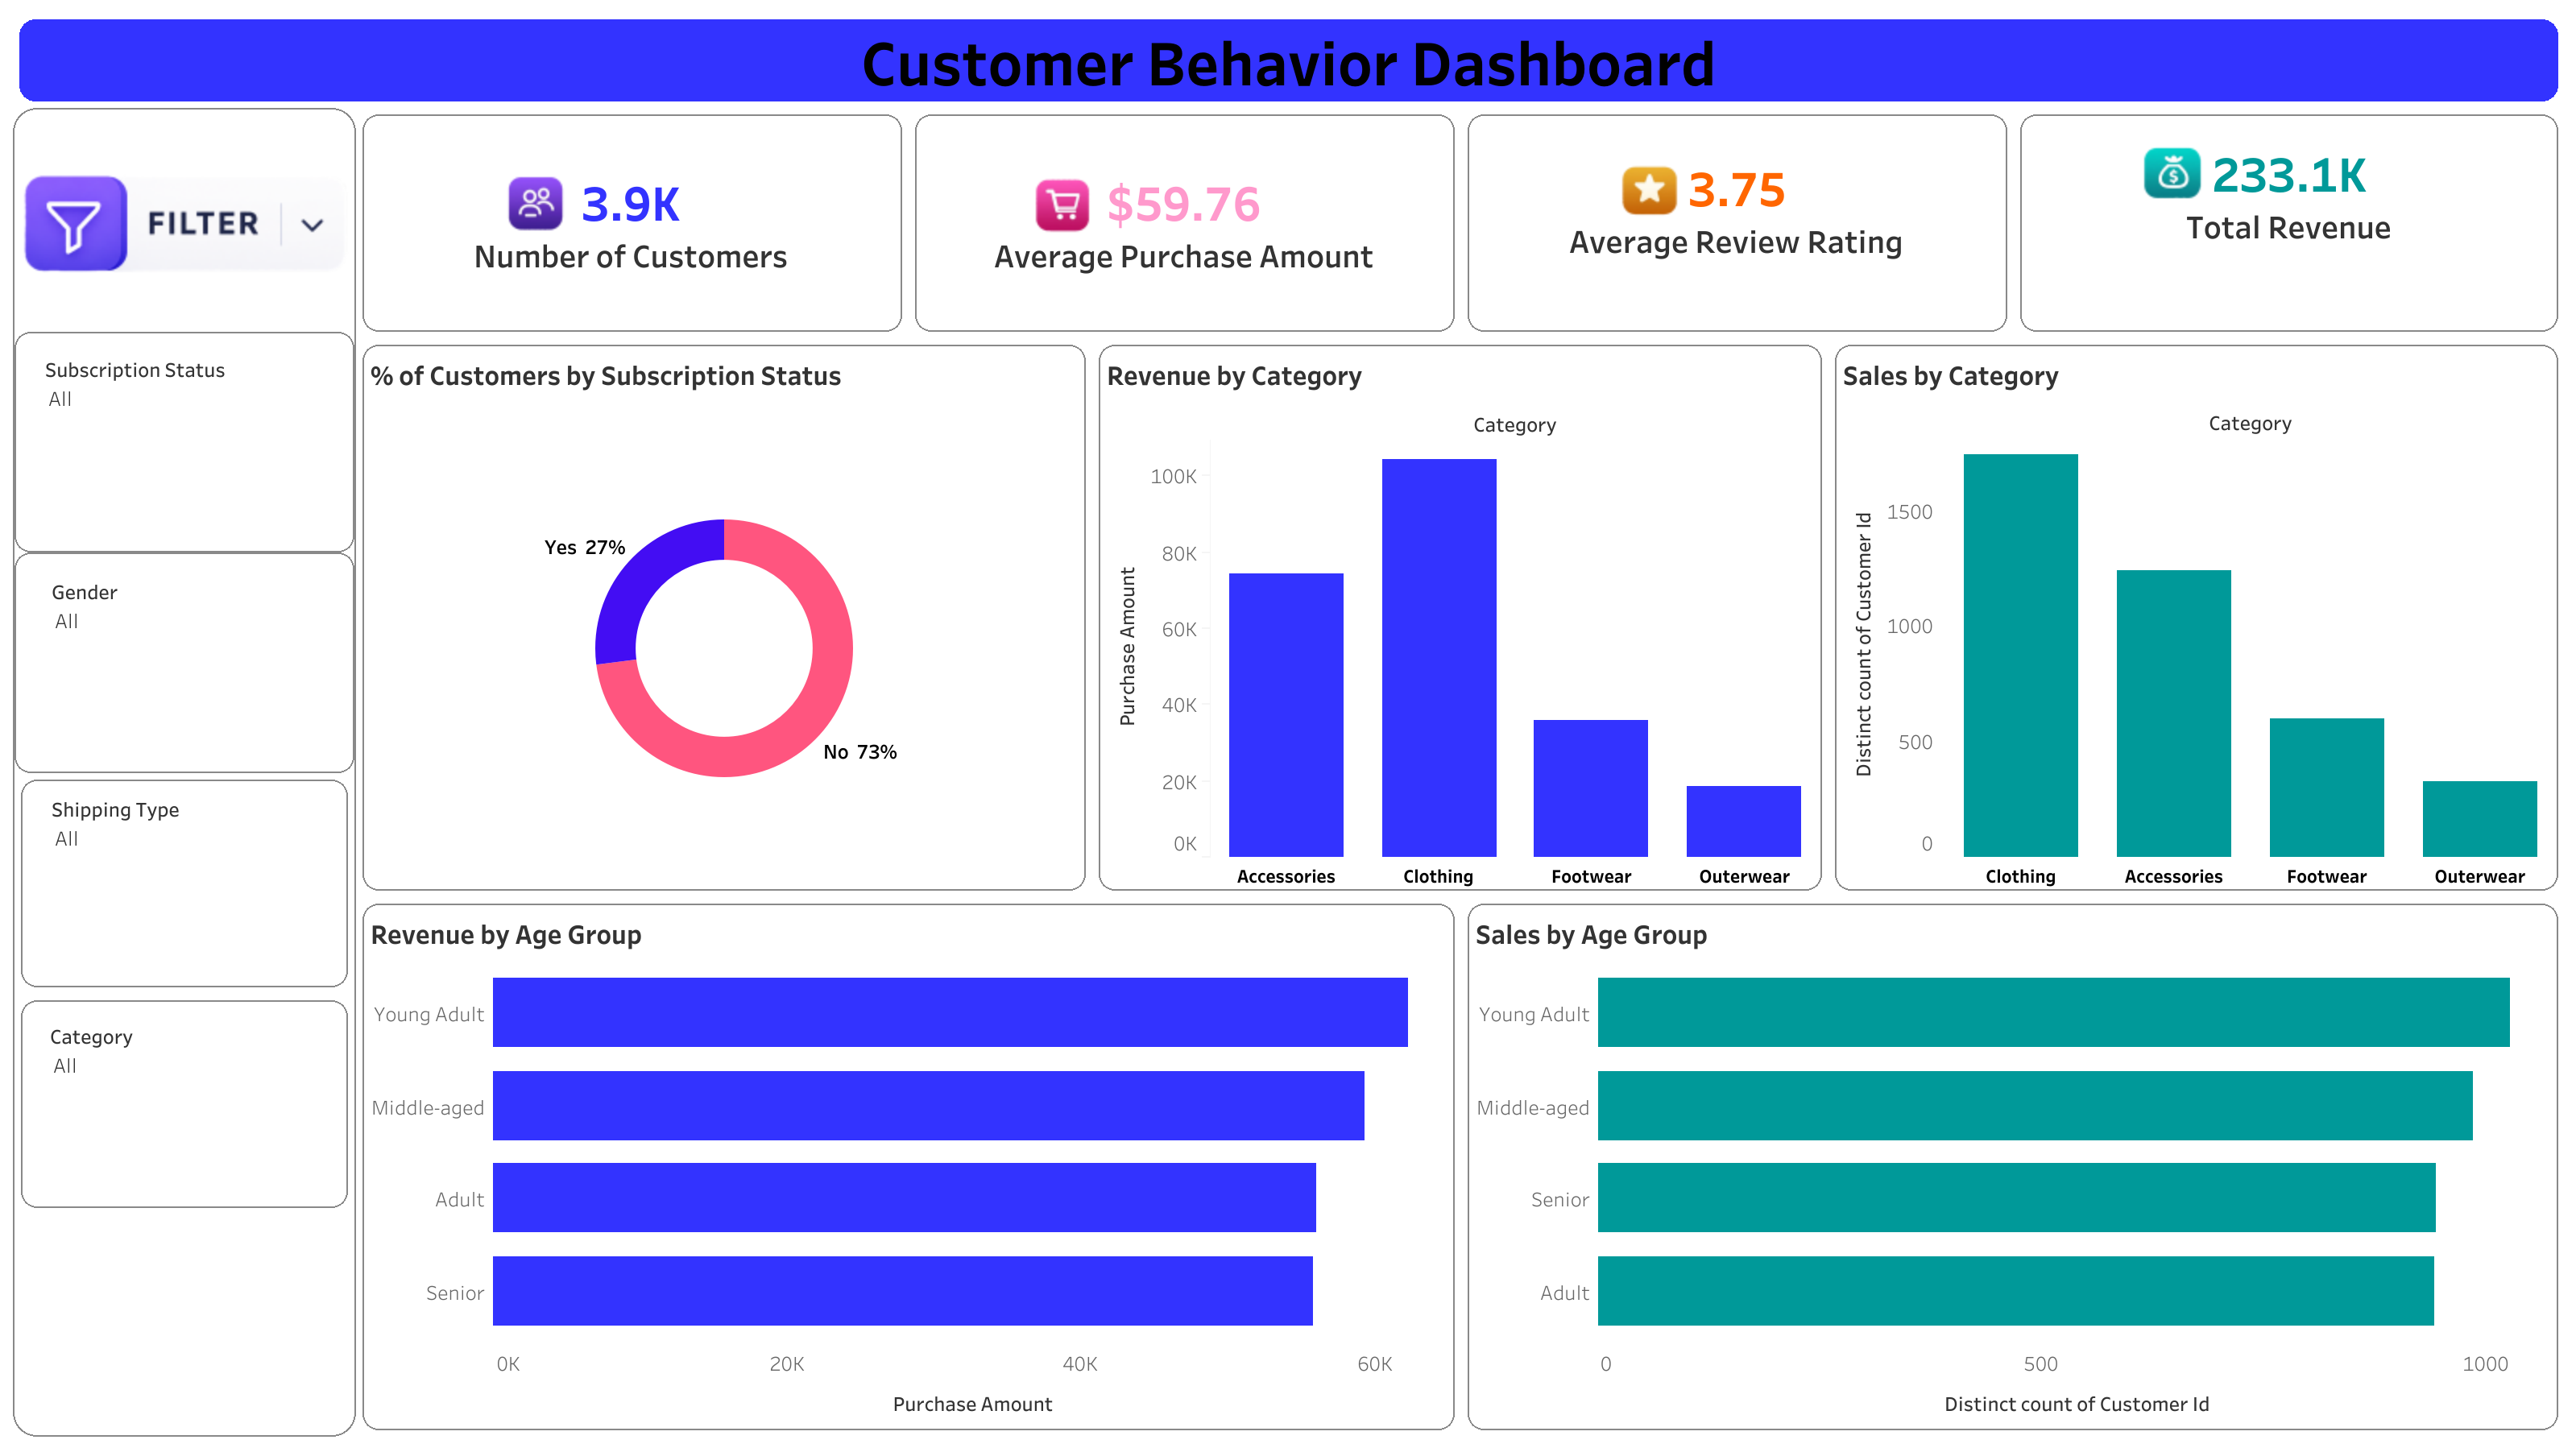

What the dashboard file says about the page in this screenshot:
{"tool":"tableau","page":{"name":"Dashboard ","canvas":[1600,900],"ordinal":0},"visuals":[{"type":"title","box":[8,8,1584,58]},{"type":"worksheet","title":"Number of Customers","mark":"Automatic","box":[221,66,343,143]},{"type":"worksheet","title":"Average Purchase Amount","mark":"Automatic","box":[564,66,343,143]},{"type":"worksheet","title":"Average Review Rating","mark":"Automatic","box":[907,66,343,143]},{"type":"image","param":"Image/Gemini_Generated_Image_9c7bee9c7bee9c7b.png","box":[1245,66,209,87]},{"type":"worksheet","title":"Total Revenue ","mark":"Automatic","box":[1250,66,342,143]},{"type":"worksheet","title":"Subscription Status Filter","mark":"Automatic","box":[9,67,211,138]},{"type":"image","param":"Image/Gemini_Generated_Image_7uhplw7uhplw7uhp.png","box":[911,80,227,75]},{"type":"image","param":"Image/Gemini_Generated_Image_340ozf340ozf340o.png","box":[596,94,128,69]},{"type":"image","param":"Image/Gemini_Generated_Image_ucqmt9ucqmt9ucqm.png","box":[273,100,121,54]},{"type":"worksheet","title":"% of Customers by Subscription Status","mark":"Pie","rows":["Calculation_0182812357767169","Calculation_0182812357767169"],"box":[221,209,457,348]},{"type":"worksheet","title":"Revenue by Category","mark":"Automatic","rows":["purchase_amount"],"cols":["category"],"box":[678,209,457,348]},{"type":"worksheet","title":"Sales by Category","mark":"Bar","rows":["customer_id"],"cols":["category"],"box":[1135,209,457,348]},{"type":"filter","title":"Subscription Status Filter","param":"[federated.13z68nx0pfxgem15kydbf0oa770o].[none:subscription_status:nk]","box":[28,219,168,89]},{"type":"filter","title":"% of Customers by Subscription Status","param":"[federated.13z68nx0pfxgem15kydbf0oa770o].[none:gender:nk]","box":[32,357,168,89]},{"type":"blank","box":[9,480,211,137]},{"type":"filter","title":"% of Customers by Subscription Status","param":"[federated.13z68nx0pfxgem15kydbf0oa770o].[none:shipping_type:nk]","box":[32,492,168,92]},{"type":"worksheet","title":"Revenue by Age Group","mark":"Bar","rows":["age_group"],"cols":["purchase_amount"],"box":[221,557,686,335]},{"type":"worksheet","title":"Sales by Age Group","mark":"Automatic","rows":["age_group"],"cols":["customer_id"],"box":[907,557,685,335]},{"type":"blank","box":[9,617,211,137]},{"type":"filter","title":"% of Customers by Subscription Status","param":"[federated.13z68nx0pfxgem15kydbf0oa770o].[none:category:nk]","box":[31,633,168,64]},{"type":"blank","box":[9,754,211,137]}]}

Visuals, with their boxes in screenshot pixels (x1, y1, x2, y2), scaled from the page's 1600x900 canvas onto the 2576x1448 screenshot:
title: box=[13, 13, 2563, 106]
"Number of Customers" worksheet: box=[356, 106, 908, 337]
"Average Purchase Amount" worksheet: box=[908, 106, 1460, 337]
"Average Review Rating" worksheet: box=[1460, 106, 2012, 337]
image: box=[2004, 106, 2341, 246]
"Total Revenue " worksheet: box=[2012, 106, 2563, 337]
"Subscription Status Filter" worksheet: box=[14, 108, 354, 330]
image: box=[1467, 129, 1833, 250]
image: box=[959, 151, 1166, 263]
image: box=[440, 161, 635, 248]
"% of Customers by Subscription Status" worksheet (Pie marks): box=[356, 337, 1091, 896]
"Revenue by Category" worksheet: box=[1091, 337, 1828, 896]
"Sales by Category" worksheet (Bar marks): box=[1828, 337, 2563, 896]
"Subscription Status Filter" filter: box=[45, 353, 316, 495]
"% of Customers by Subscription Status" filter: box=[52, 574, 322, 718]
blank: box=[14, 772, 354, 993]
"% of Customers by Subscription Status" filter: box=[52, 792, 322, 940]
"Revenue by Age Group" worksheet (Bar marks): box=[356, 896, 1460, 1435]
"Sales by Age Group" worksheet: box=[1460, 896, 2563, 1435]
blank: box=[14, 993, 354, 1213]
"% of Customers by Subscription Status" filter: box=[50, 1019, 321, 1121]
blank: box=[14, 1213, 354, 1434]
